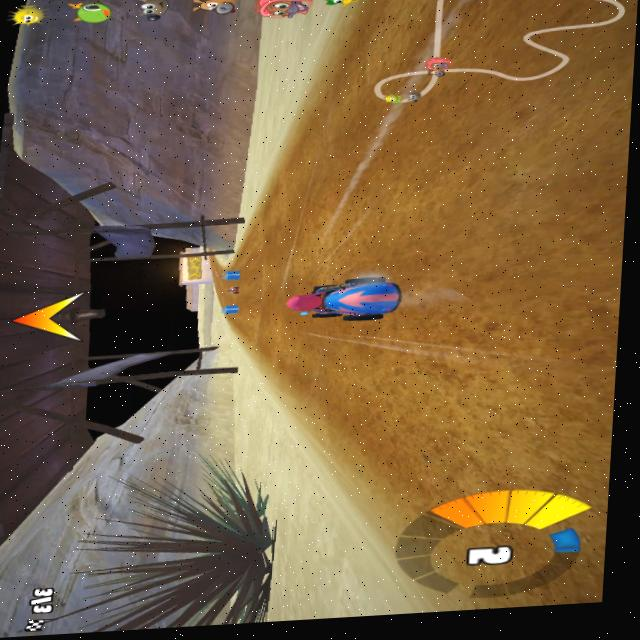bonus: (215, 303, 242, 314), (219, 267, 238, 279)
enemy_kart: (221, 286, 241, 295)
player_kart: (285, 268, 406, 327)
track: (384, 260, 622, 613), (345, 0, 631, 274), (283, 319, 405, 422), (283, 130, 351, 275), (327, 414, 397, 522), (239, 233, 293, 372), (255, 198, 285, 236), (208, 257, 219, 288), (226, 279, 246, 286), (225, 294, 242, 301)
